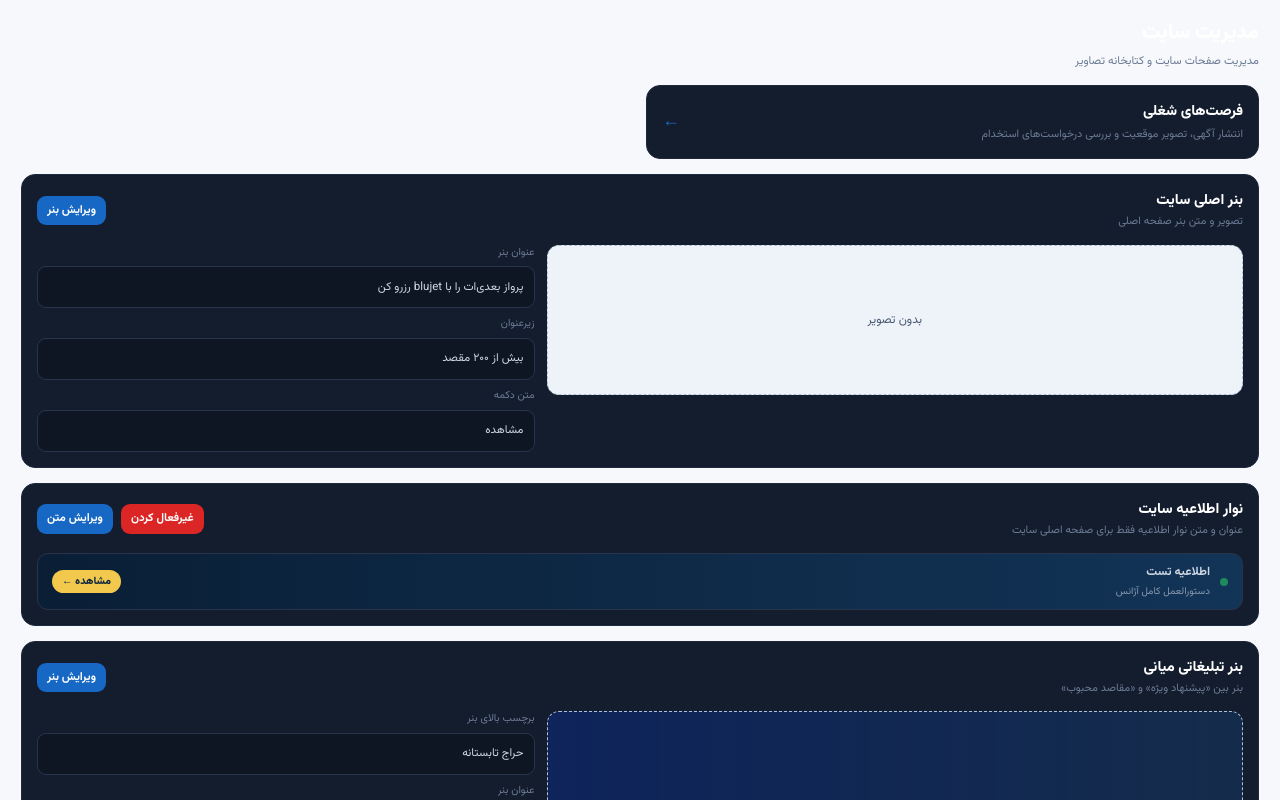
it: MediaAdminPage › opens hero banner editor
Expected: the heading "بنر اصلی سایت" is shown, x1=1156 y1=189 x2=1243 y2=212
Click the button "ویرایش بنر" in the row of "تصویر و متن بنر صفحه اصلی" at {"x": 72, "y": 210}, box x1=37 y1=196 x2=106 y2=225
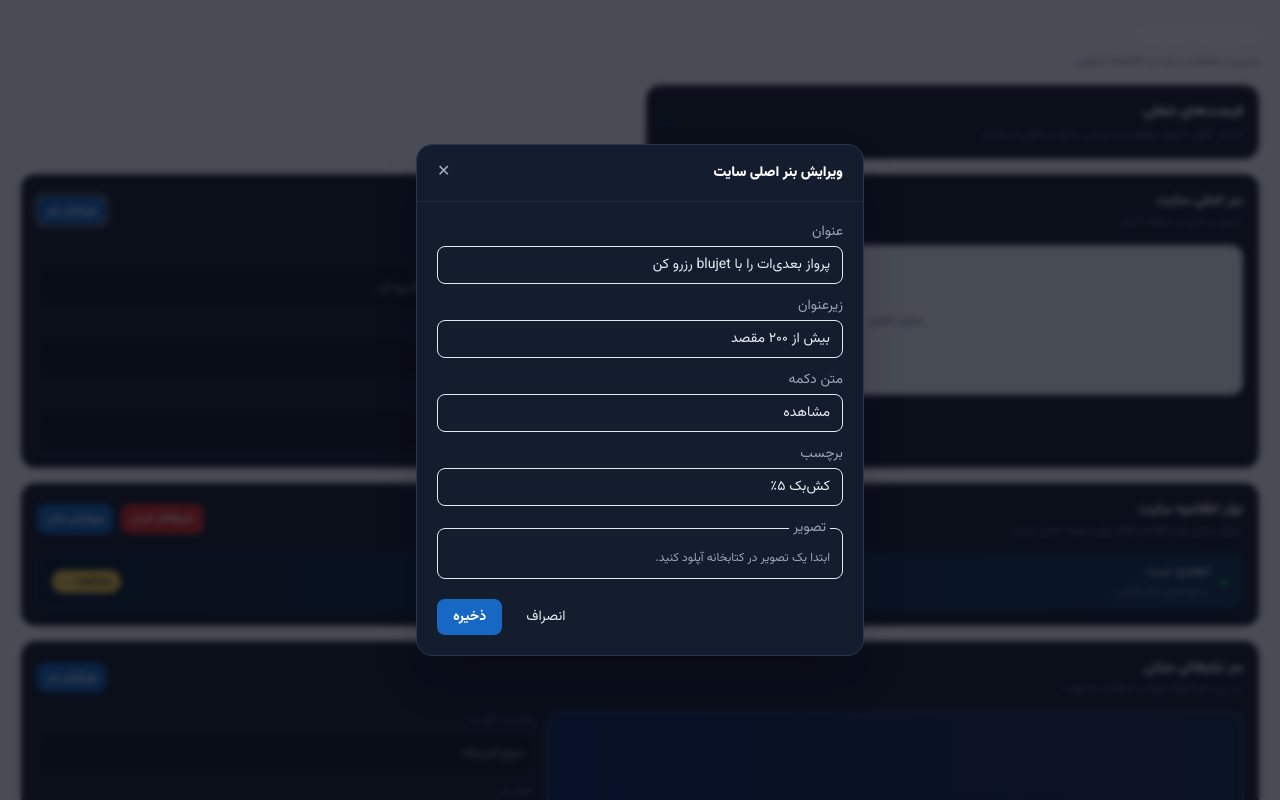
Expected: the field showing "پرواز بعدی‌ات را با blujet رزرو کن" is shown, x1=437 y1=246 x2=843 y2=284
